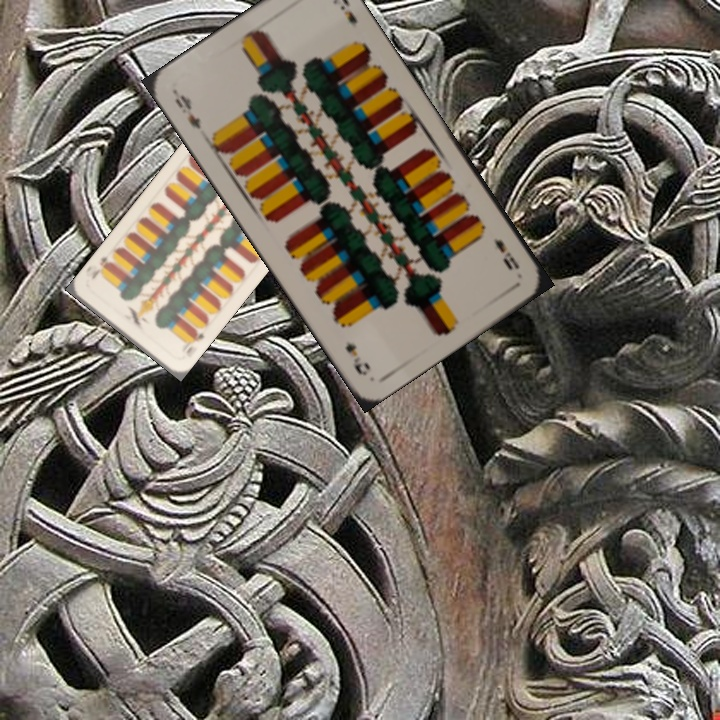E10: (178, 326, 207, 356)
E9: (170, 87, 204, 132), (489, 234, 522, 273)
